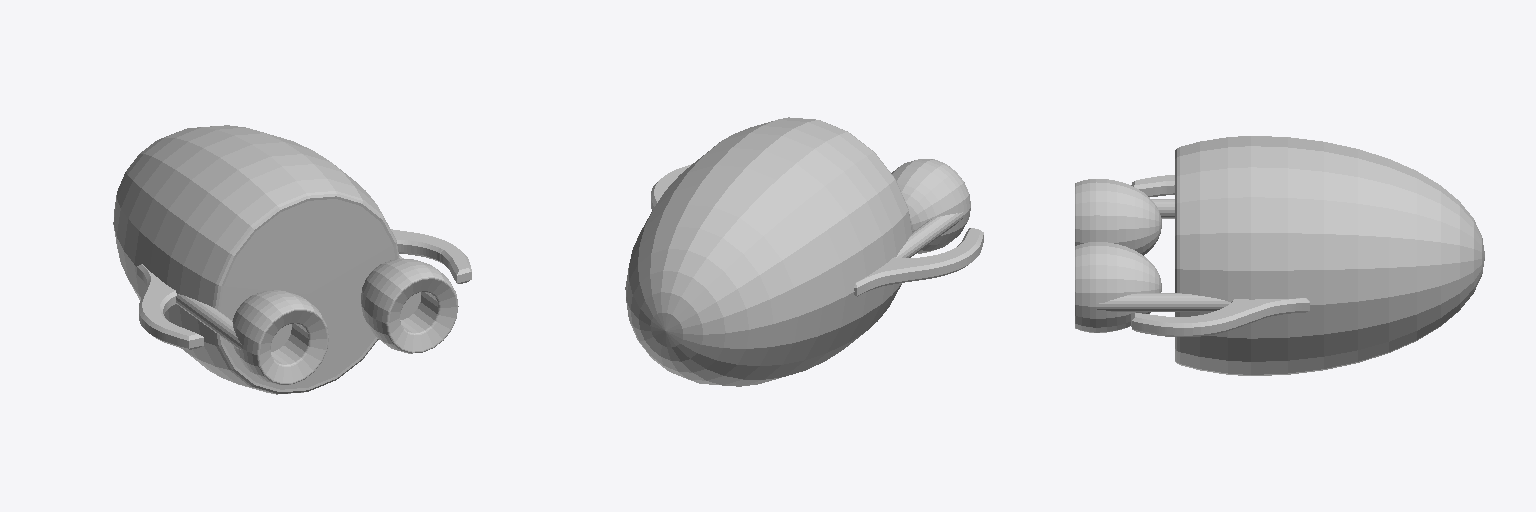
The model's file is Player.obj.
3 renders of one model, left to right at view 1: azimuth 30°, elevation 25°; view 2: azimuth 150°, elevation 25°; view 3: azimuth 270°, elevation 25°, orthographic.
Visible parts, largest first — view 1: polySurface50; view 2: polySurface50; view 3: polySurface50.
Part boxes in pixels (left/top/right/bottom): polySurface50: left=113, top=125, right=471, bottom=394; polySurface50: left=625, top=117, right=983, bottom=386; polySurface50: left=1075, top=136, right=1484, bottom=375.
Bounding box in the file's own units: 7.78 × 5.26 × 8.9.